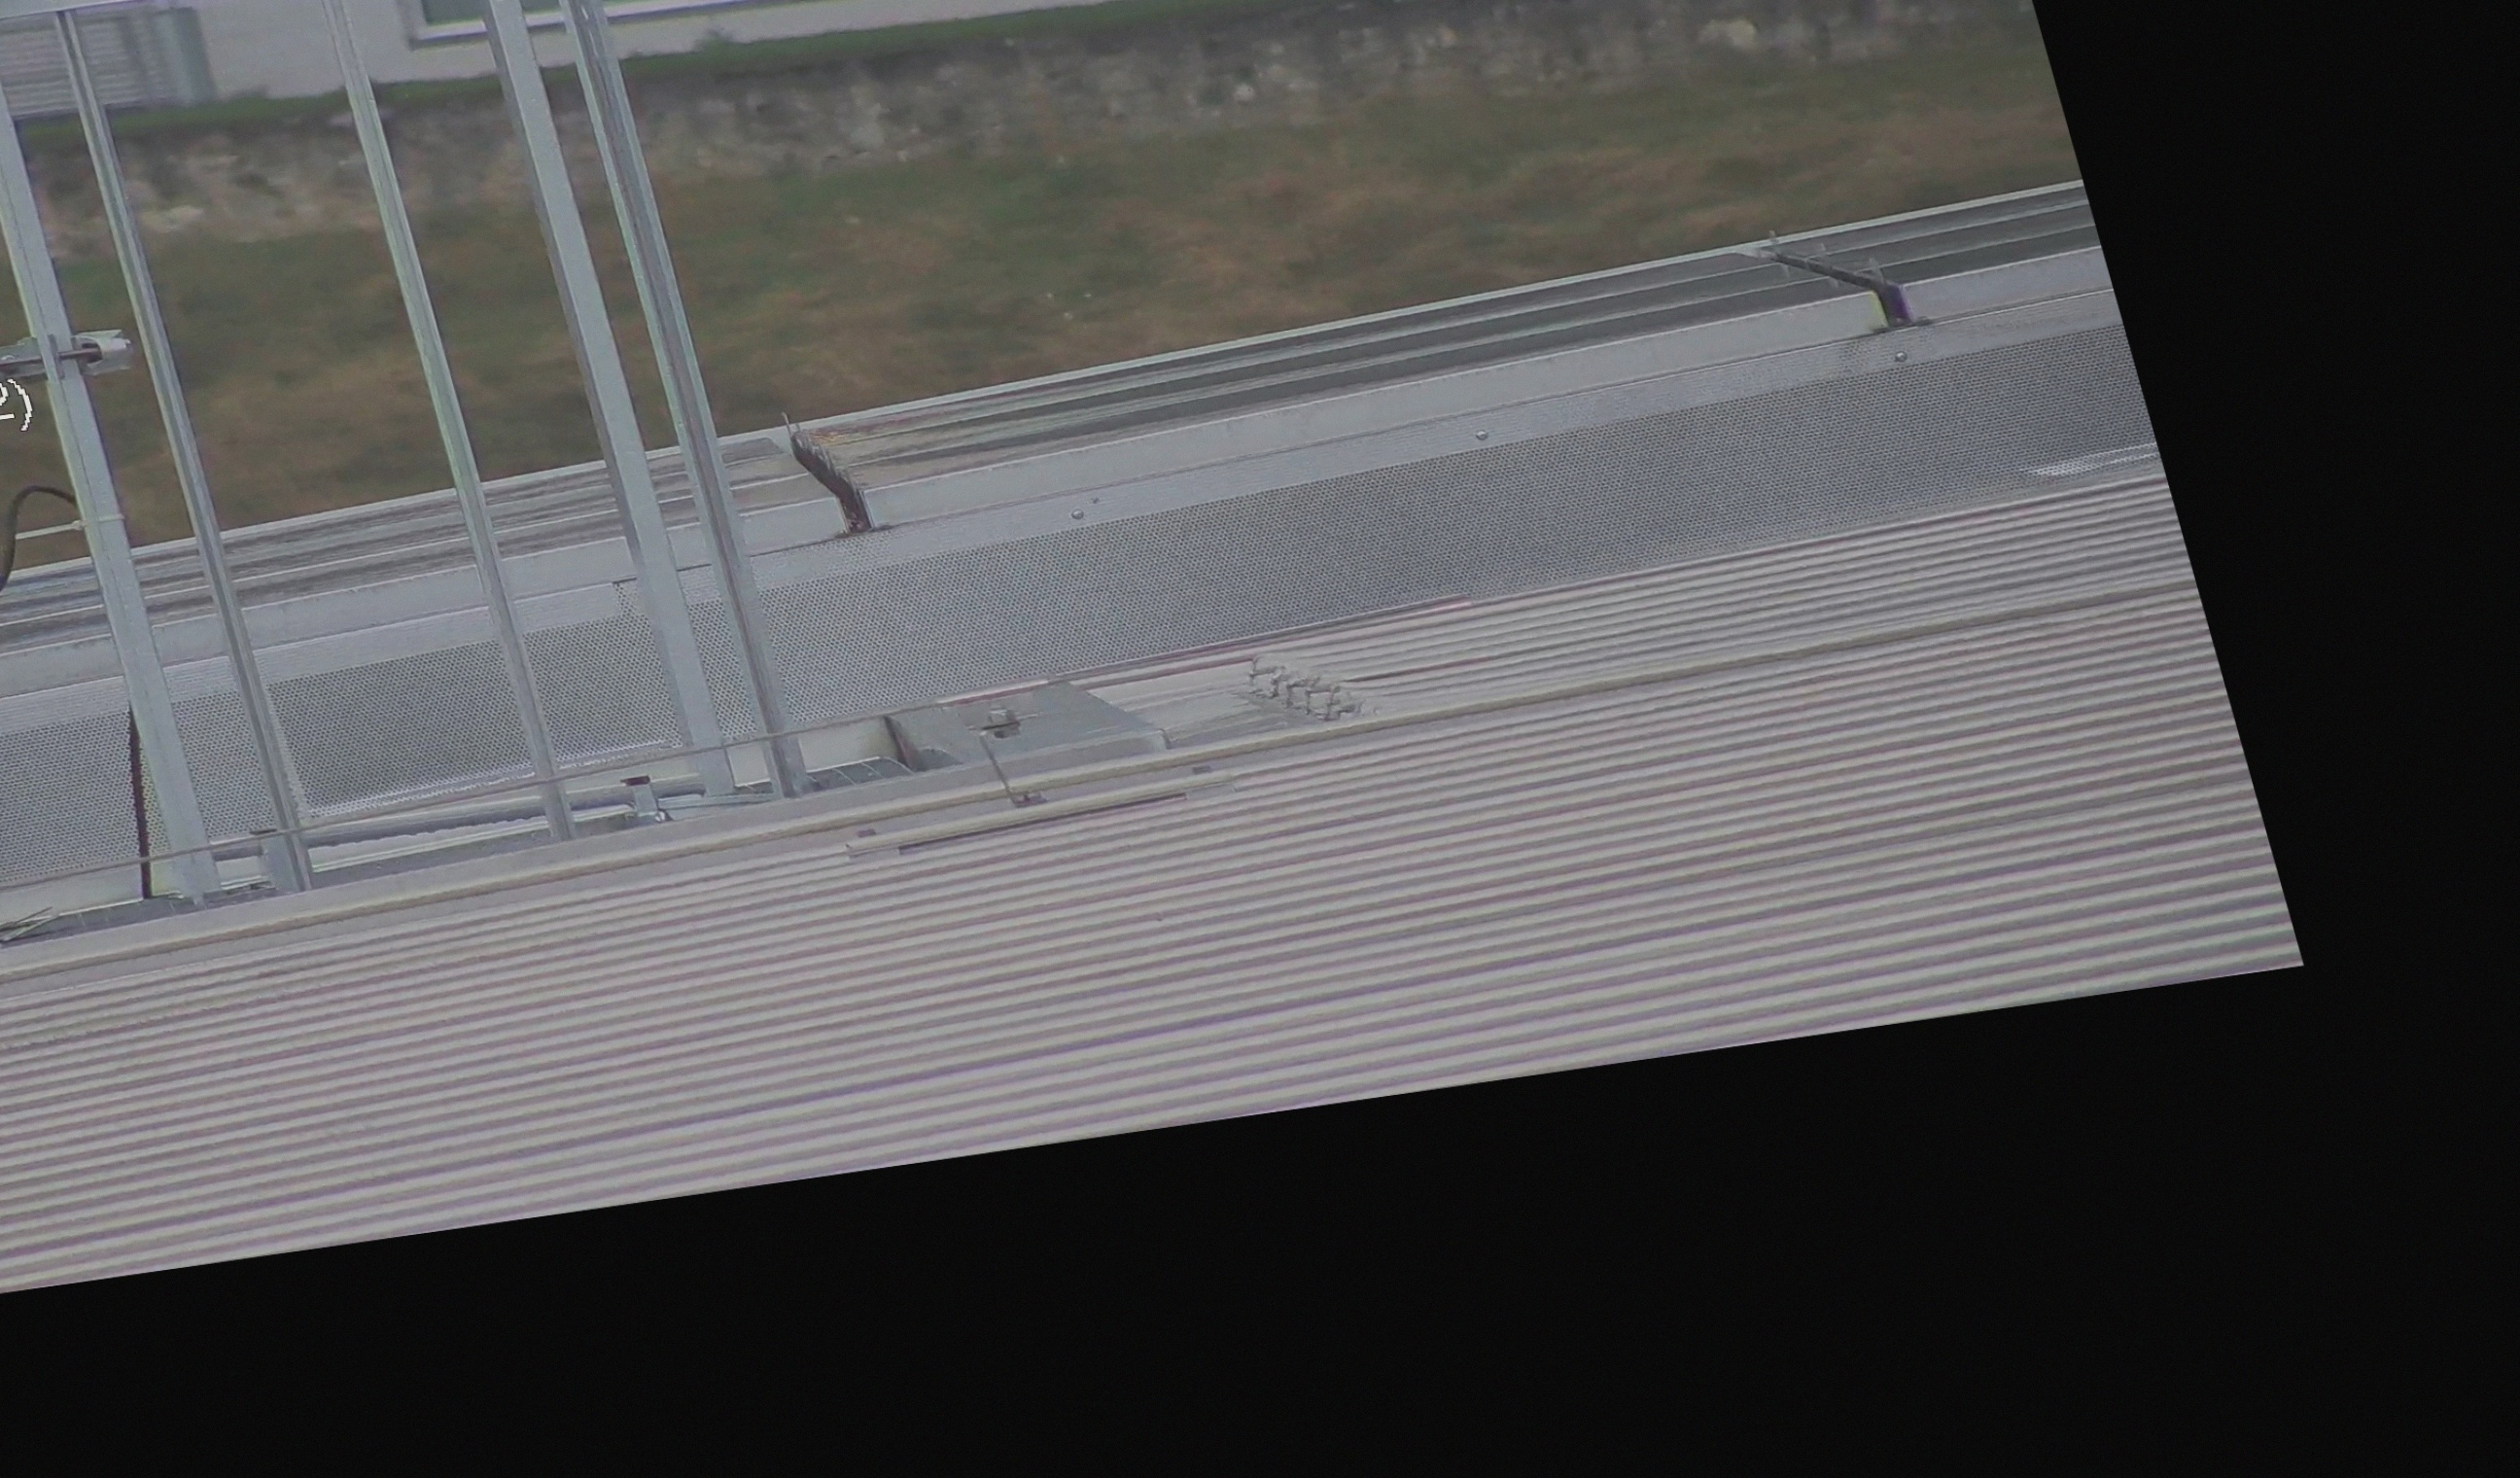Other: (761, 405, 900, 551)
